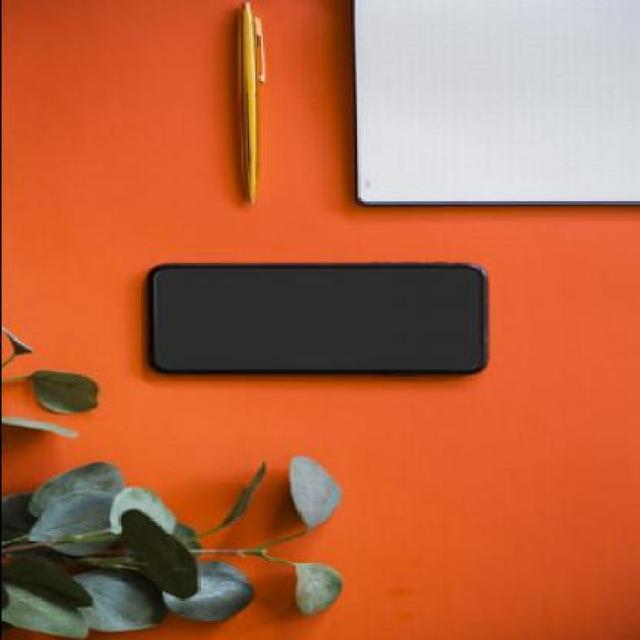phone: (151, 263, 487, 374)
